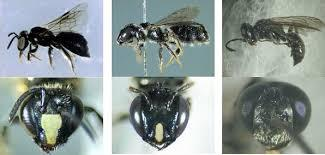Braunsapis: (7, 75, 101, 149), (4, 2, 98, 75), (232, 75, 318, 150), (124, 78, 212, 149), (223, 8, 315, 70), (110, 5, 201, 67)
